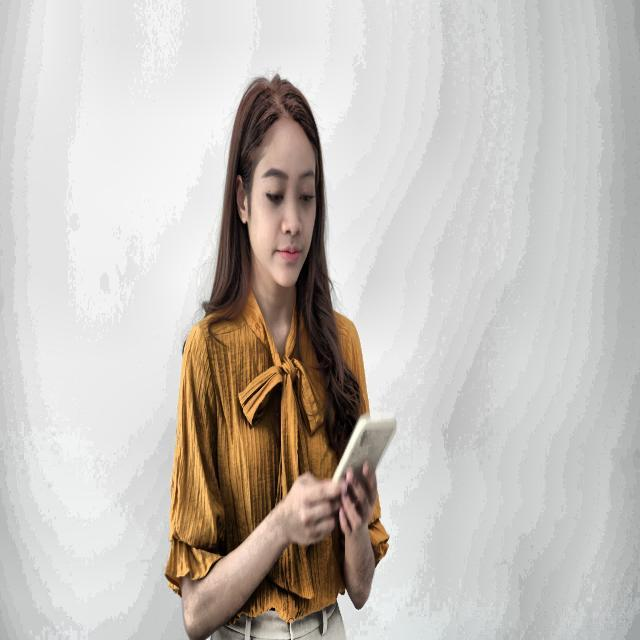Phone: (328, 415, 396, 503)
